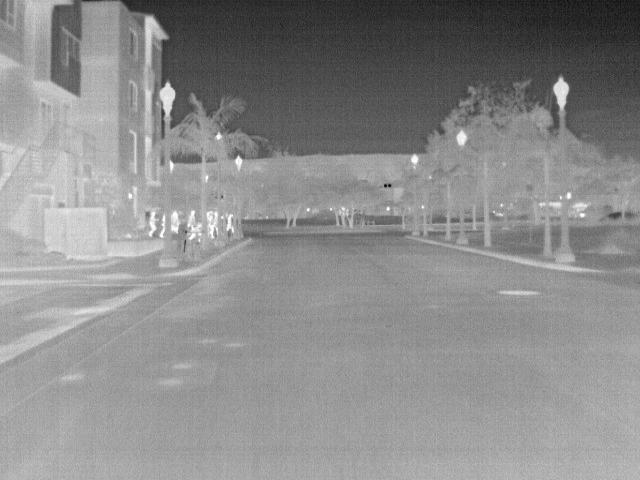person: (145, 210, 160, 237), (169, 209, 181, 235), (185, 207, 199, 229), (225, 211, 237, 232)
